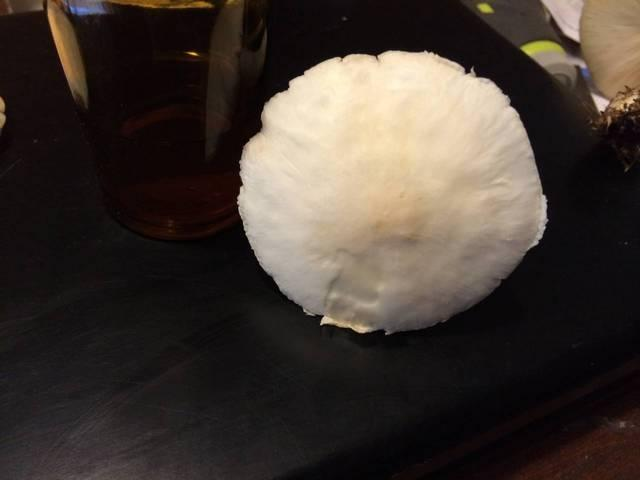Non-edible Mushroom: (235, 48, 549, 336)
